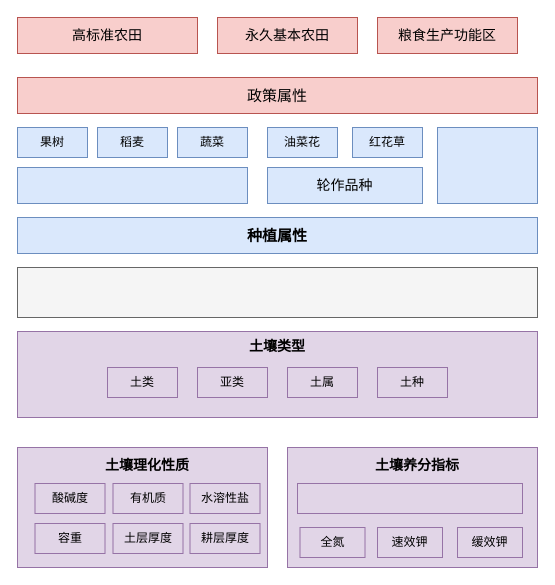
Image size: 555x585. Some labels were removed from this diagram. The shapes that lost their labels are listed below. From the top down, each one's centre as x and y in pixels, then its label:
point 132,185: 种植类型
point 487,165: 稻+N
point 277,292: 耕地地块
point 409,498: 有效磷/铜/硼/钼/锰/铁/锌/硅/硫
